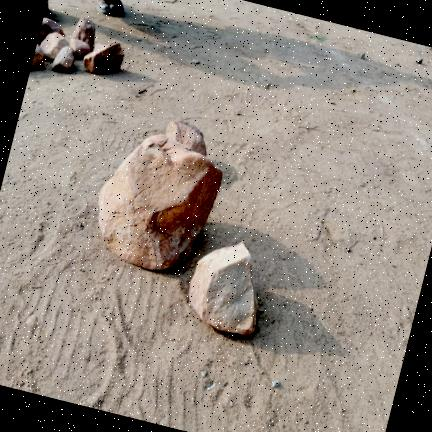Rocks: (99, 135, 222, 270), (189, 242, 257, 334), (166, 121, 206, 156), (84, 41, 124, 73), (40, 33, 69, 60), (37, 18, 64, 45), (73, 19, 95, 48), (52, 46, 73, 71), (70, 38, 90, 59), (31, 45, 44, 69), (25, 314, 37, 327), (93, 44, 105, 52), (272, 380, 280, 388), (44, 0, 48, 15), (417, 58, 423, 64), (192, 59, 199, 64), (360, 54, 365, 60)
